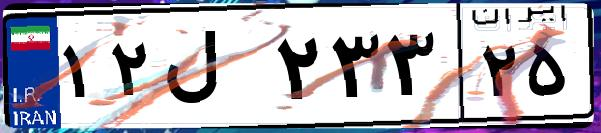1: (57, 26, 110, 100)
2: (270, 28, 330, 110), (475, 38, 525, 113), (110, 28, 158, 98)
3: (385, 28, 445, 110), (330, 28, 385, 110)
5: (525, 38, 570, 115)
ل: (158, 20, 270, 120)
